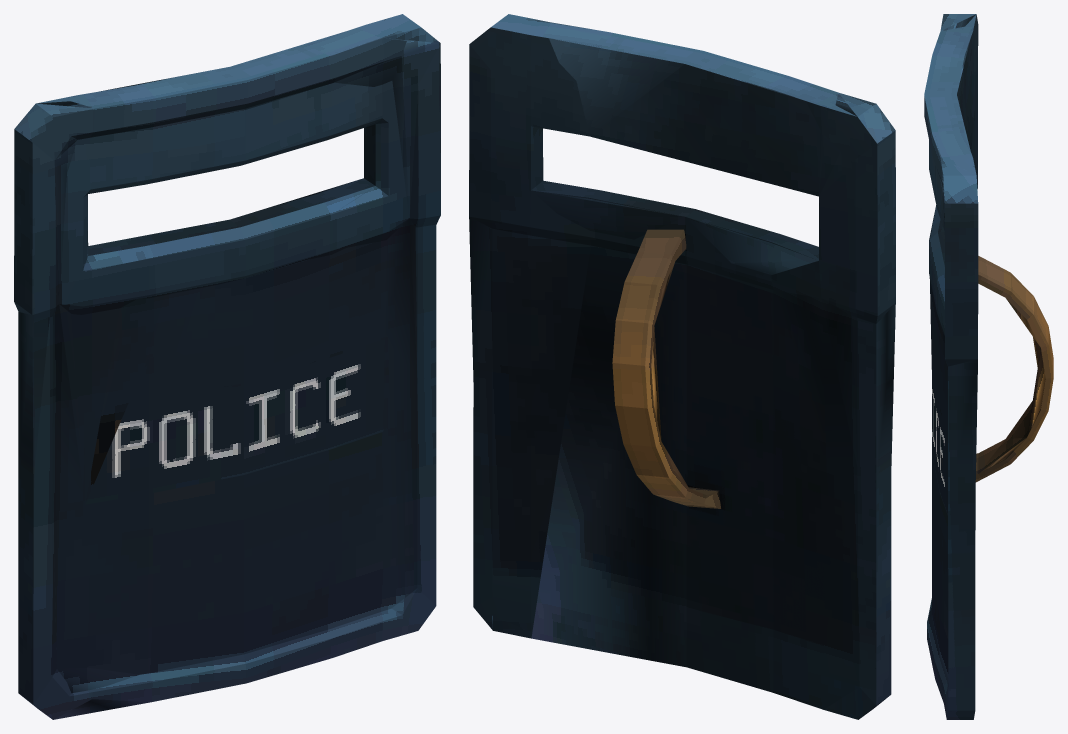
The model's file is item_shield_police.glb.
3 renders of one model, left to right at view 1: azimuth 30°, elevation 25°; view 2: azimuth 150°, elevation 25°; view 3: azimuth 270°, elevation 25°, orthographic. The views are drawn at different scales.
Parts seen in each view (by area): view 1: PoliceShield; view 2: PoliceShield; view 3: PoliceShield.
Boxes of the visible parts, x1,y1,x2,y2 form: PoliceShield: (14, 14, 440, 719); PoliceShield: (469, 14, 895, 719); PoliceShield: (924, 14, 1053, 719).
Bounding box in the file's own units: 0.444 × 0.6278 × 0.1352.
1 material, 1 textured.
